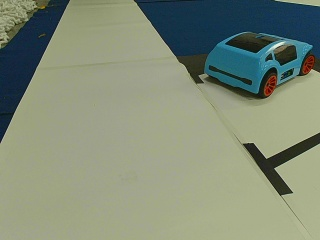car: (203, 32, 314, 97)
